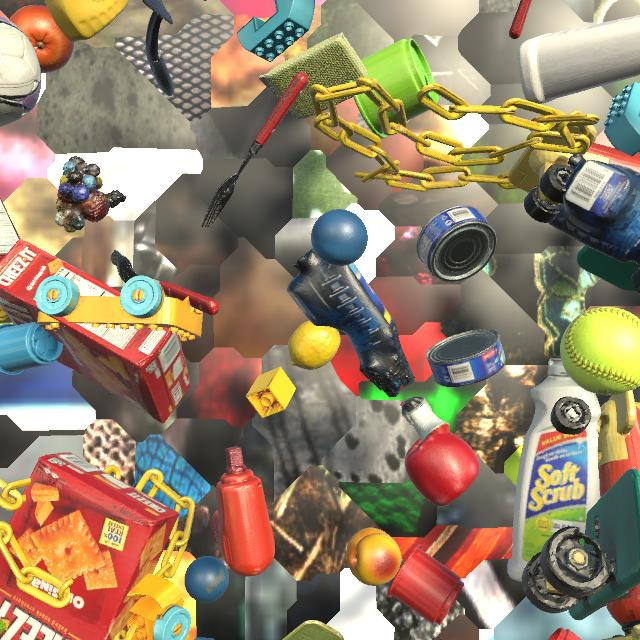ycb_003_cracker_box: (0, 239, 191, 424), (0, 452, 180, 640)
ycb_006_mustard_bottle: (44, 0, 130, 42)
ycb_007_tuna_fish_can: (417, 205, 497, 283), (426, 329, 506, 387)
ycb_008_pudding_box: (0, 197, 20, 260), (204, 0, 206, 1)
ycb_010_potted_meat_can: (282, 620, 344, 640)
ycb_013_apple: (405, 432, 480, 506)
ycb_014_lemon: (288, 321, 340, 370)
ycb_015_peach: (346, 528, 401, 586)
ycb_017_orange: (9, 5, 74, 73)
